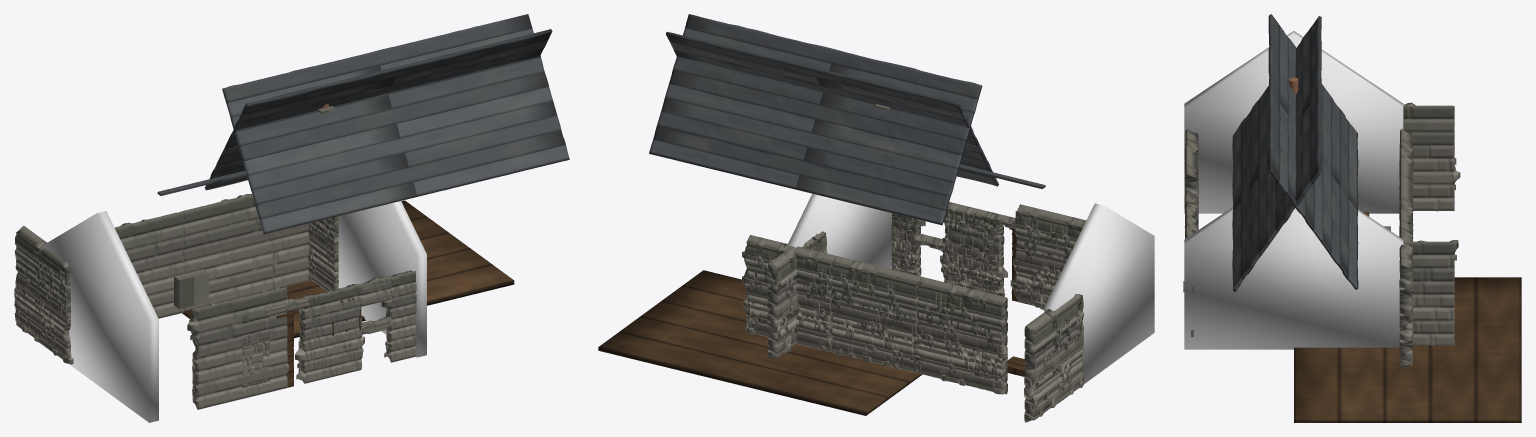
The model's file is tls_env_010_sin_eater_cottage.fbx.
The picture shows the model from 3 angles, left to right: view 1: azimuth 30°, elevation 25°; view 2: azimuth 150°, elevation 25°; view 3: azimuth 270°, elevation 25°; orthographic projection. The views are drawn at different scales.
Visible parts, largest first — view 1: TLS_Cottage_Roof0, TLS_Cottage_Gable-1, TLS_Cottage_FrontA, TLS_Cottage_Roof1, TLS_Cottage_BackB, TLS_Cottage_Gable1, TLS_Cottage_SideL, TLS_Cottage_Floor, TLS_Cottage_BackA, TLS_Env_Wall_DoorSide1.001, TLS_Env_Wall_WinSide0.001, TLS_Env_Wall_WinSide1.001 (+5 smaller); view 2: TLS_Cottage_Roof1, TLS_Cottage_Floor, TLS_Cottage_Gable-1, TLS_Cottage_BackA, TLS_Cottage_BackB, TLS_Cottage_Roof0, TLS_Cottage_BackC, TLS_Cottage_SideL, TLS_Cottage_Gable1, TLS_Cottage_FrontA, TLS_Cottage_SideR, TLS_Env_Wall_DoorSide1.001 (+2 smaller); view 3: TLS_Cottage_Gable1, TLS_Cottage_Floor, TLS_Cottage_Gable-1, TLS_Cottage_Roof1, TLS_Cottage_Roof0, TLS_Cottage_SideL, TLS_Cottage_SideR, TLS_Cottage_BackC, TLS_Cottage_FrontA, TLS_Cottage_BackA, TLS_Cottage_BackB.
Part boxes in pixels (x1,y1,x2,y2): TLS_Cottage_Roof0: (222, 14, 569, 234); TLS_Cottage_Gable-1: (44, 211, 158, 422); TLS_Cottage_FrontA: (187, 286, 288, 409); TLS_Cottage_Roof1: (205, 29, 552, 190); TLS_Cottage_BackB: (179, 194, 273, 311); TLS_Cottage_Gable1: (338, 201, 426, 357); TLS_Cottage_SideL: (14, 226, 73, 364); TLS_Cottage_Floor: (182, 200, 514, 338); TLS_Cottage_BackA: (115, 211, 184, 318); TLS_Env_Wall_DoorSide1.001: (295, 291, 332, 383); TLS_Env_Wall_WinSide0.001: (327, 284, 364, 376); TLS_Env_Wall_WinSide1.001: (381, 270, 416, 362); TLS_Cottage_Roof1: (649, 14, 982, 225); TLS_Cottage_Floor: (598, 270, 922, 415); TLS_Cottage_Gable-1: (1044, 203, 1154, 383); TLS_Cottage_BackA: (914, 276, 1007, 394); TLS_Cottage_BackB: (831, 256, 920, 372); TLS_Cottage_Roof0: (666, 32, 998, 186); TLS_Cottage_BackC: (742, 235, 835, 351); TLS_Cottage_SideL: (1024, 293, 1084, 422); TLS_Cottage_Gable1: (787, 193, 891, 269); TLS_Cottage_FrontA: (1010, 204, 1086, 309); TLS_Cottage_SideR: (767, 231, 827, 358); TLS_Env_Wall_DoorSide1.001: (970, 208, 1007, 296); TLS_Cottage_Gable1: (1184, 207, 1403, 349); TLS_Cottage_Floor: (1294, 277, 1521, 422); TLS_Cottage_Gable-1: (1184, 31, 1403, 213); TLS_Cottage_Roof1: (1268, 14, 1358, 289); TLS_Cottage_Roof0: (1232, 16, 1321, 291); TLS_Cottage_SideL: (1403, 102, 1460, 211); TLS_Cottage_SideR: (1403, 240, 1458, 345); TLS_Cottage_BackC: (1399, 219, 1413, 367); TLS_Cottage_FrontA: (1184, 129, 1198, 230); TLS_Cottage_BackA: (1399, 129, 1413, 231); TLS_Cottage_BackB: (1399, 174, 1413, 237).
Size of what is drawn, in the model's own units: 1207 by 661 by 758.
Materials: 7 (4 with a texture image).
